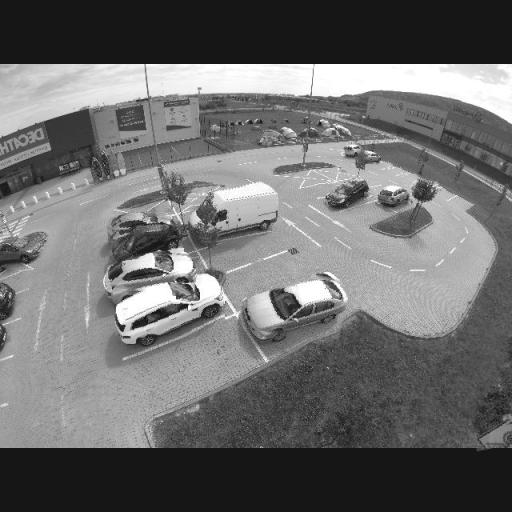busy: (240, 265, 348, 343), (113, 275, 225, 338), (188, 184, 282, 246), (106, 246, 198, 296), (113, 220, 183, 260), (108, 207, 170, 239), (0, 234, 43, 272), (323, 178, 373, 210), (473, 416, 512, 450), (376, 184, 412, 208), (407, 179, 441, 203), (0, 284, 14, 318), (340, 143, 362, 159), (364, 152, 382, 164)
free: (174, 348, 224, 386), (254, 260, 298, 292), (234, 237, 270, 259), (314, 180, 336, 200), (357, 205, 384, 221), (434, 187, 454, 200), (388, 166, 404, 178), (402, 174, 419, 184), (376, 160, 392, 170)
